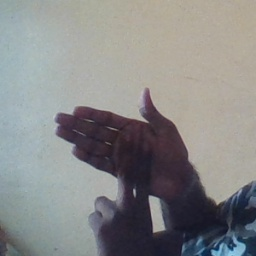N: (50, 83, 179, 243)
